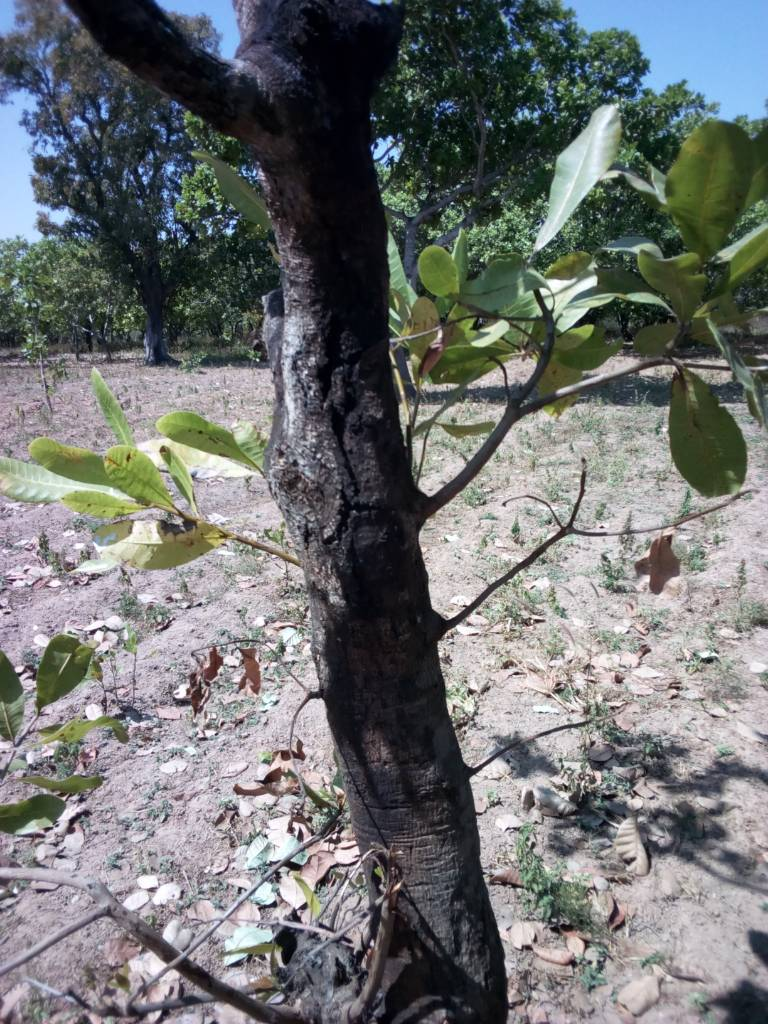Gommose: (286, 227, 421, 714)
